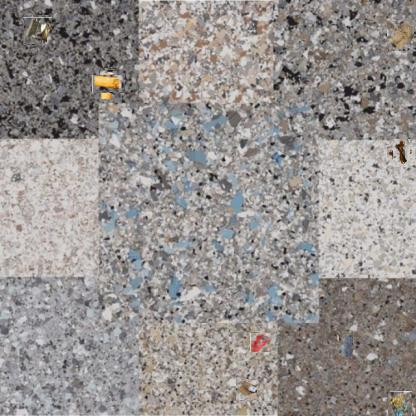dirty: (385, 22, 415, 51), (23, 16, 52, 45), (96, 72, 121, 97), (389, 392, 413, 416), (390, 142, 412, 164), (236, 378, 258, 400)
liquid: (250, 332, 271, 352), (338, 333, 354, 357)
